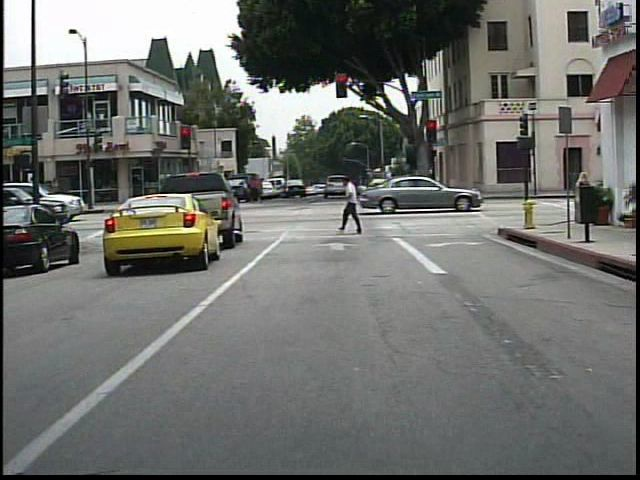person: (338, 174, 368, 235), (570, 168, 596, 222), (243, 170, 269, 210)
